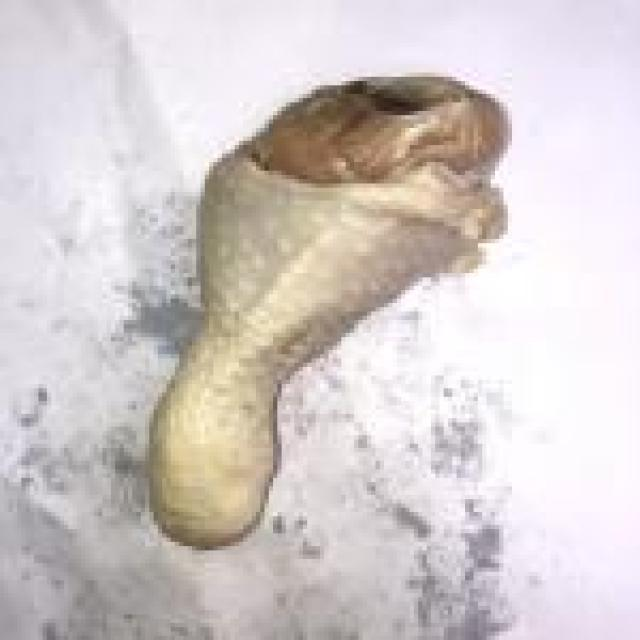leg: (148, 56, 507, 561)
